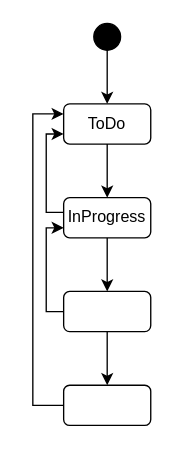
Image size: 174x449. Some labels were removed from this diagram. The shapes that lost their labels are listed below. From the top down, each one's centre as x and y in pixels, then its label:
At [106,311]: "Review".
At [106,404]: "Done".
